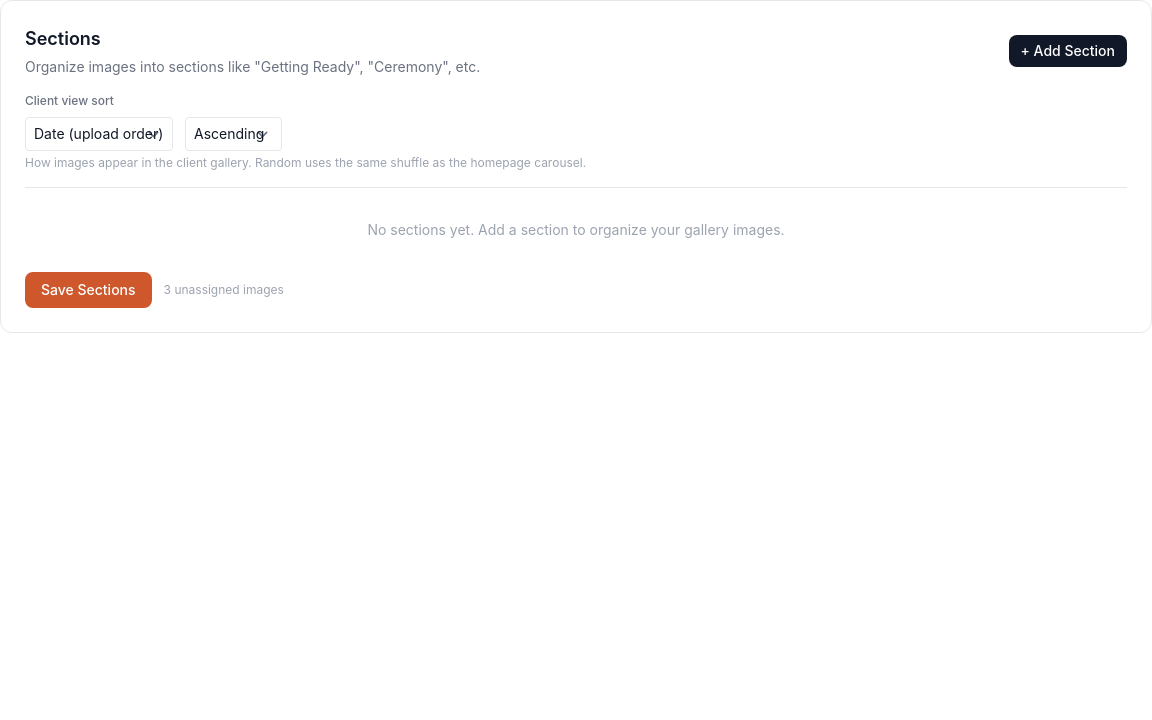
Test case: SectionManager › adds a section and validates title before save
This screenshot has width=1152, height=720.
Click the button "+ Add Section": (1068, 51) left=1008, top=35, right=1127, bottom=67
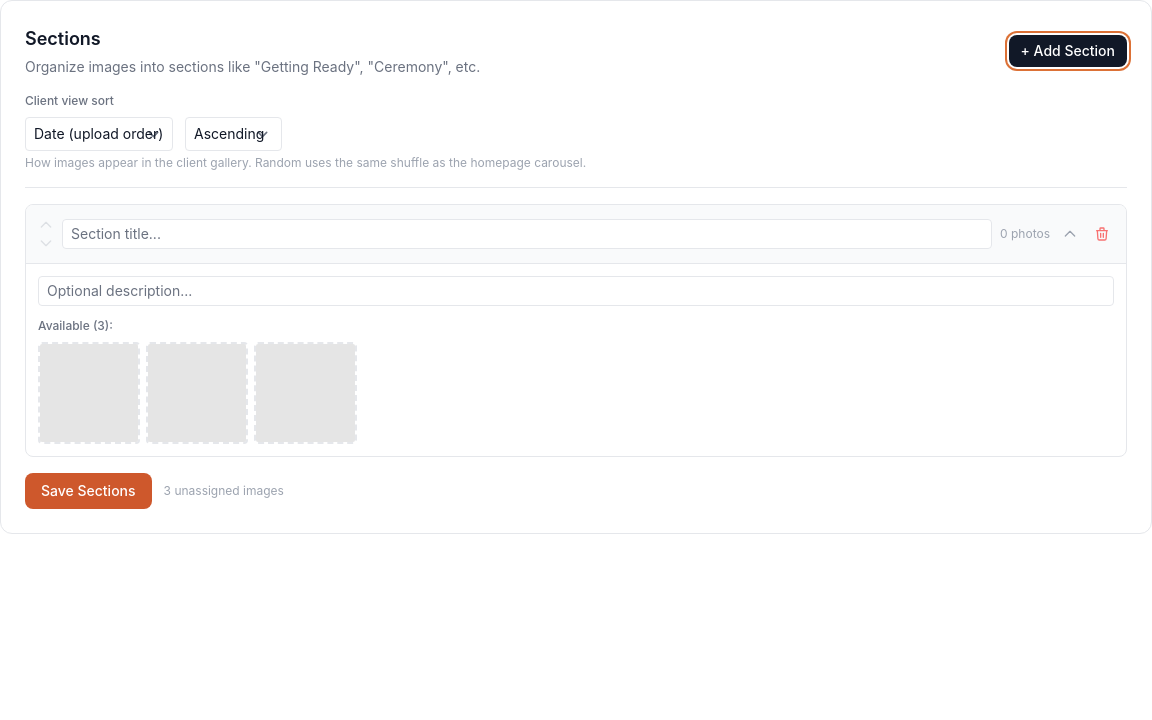
Expected: the field with placeholder "Section title..." is shown, left=62, top=219, right=992, bottom=249
Expected: the button named "Collapse" is shown, left=1058, top=222, right=1082, bottom=246
Click the button "Save Sections": (88, 491) left=25, top=473, right=152, bottom=509
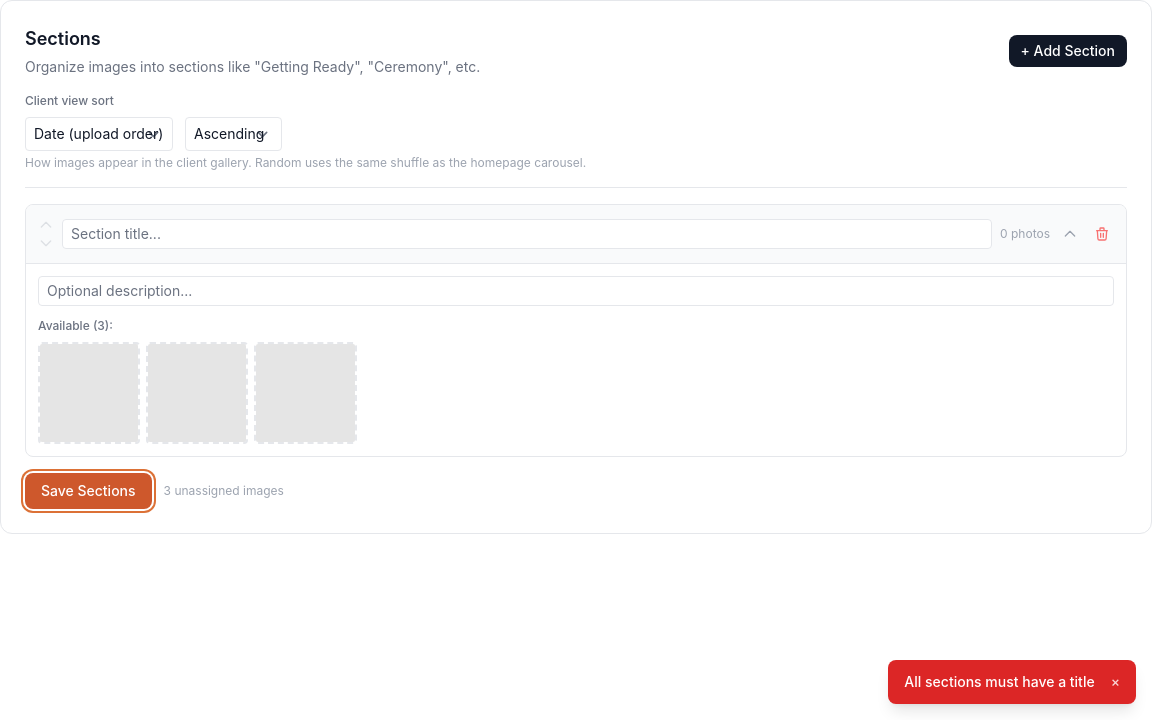
Expected: the message shows "All sections must have a title", left=904, top=673, right=1095, bottom=690
